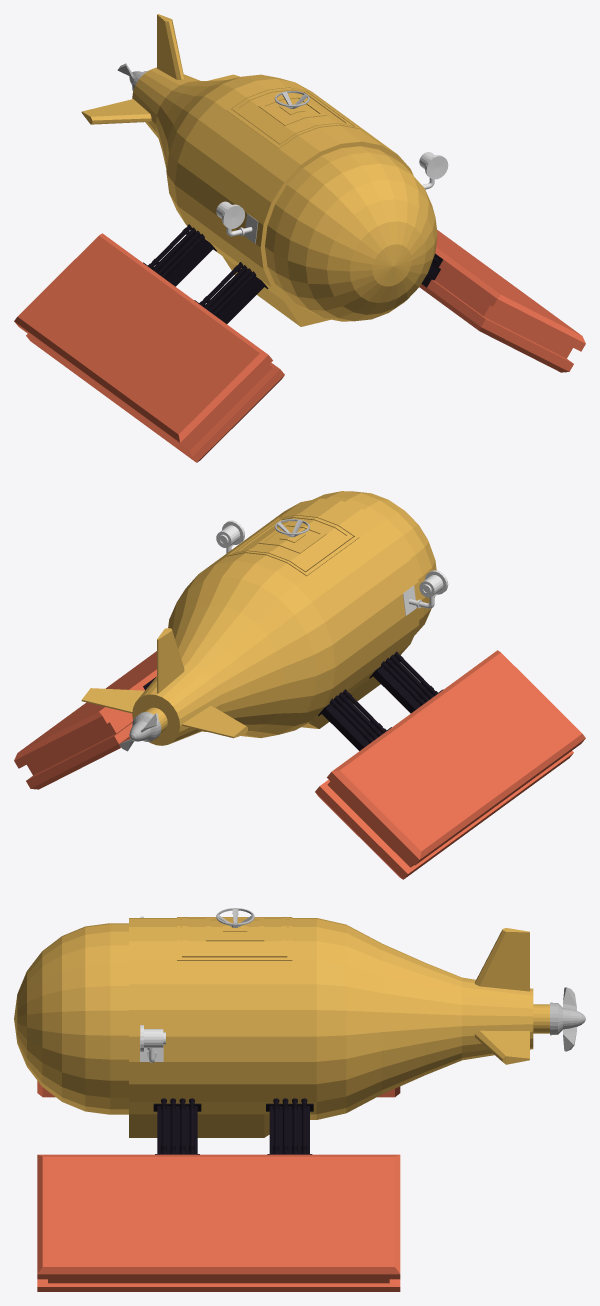
3 views of the same model, one above another, from view 1: azimuth 30°, elevation 25°; view 2: azimuth 150°, elevation 25°; view 3: azimuth 270°, elevation 25° (orthographic). The views are drawn at different scales.
Visible parts, largest first — view 1: body, float, enganche_2, lamp, Helice_y_Escotilla; view 2: body, float, enganche_2, lamp, Helice_y_Escotilla; view 3: body, float, enganche_2, Helice_y_Escotilla, lamp.
Part boxes in pixels (x1=…): body: x1=81, y1=14, x2=437, y2=326; float: x1=14, y1=230, x2=585, y2=462; enganche_2: x1=143, y1=224, x2=443, y2=323; lamp: x1=216, y1=152, x2=448, y2=243; Helice_y_Escotilla: x1=117, y1=63, x2=309, y2=108; body: x1=81, y1=491, x2=436, y2=745; float: x1=14, y1=650, x2=585, y2=879; enganche_2: x1=143, y1=651, x2=443, y2=750; lamp: x1=216, y1=520, x2=448, y2=615; Helice_y_Escotilla: x1=119, y1=519, x2=309, y2=751; body: x1=14, y1=917, x2=549, y2=1137; float: x1=37, y1=1081, x2=400, y2=1291; enganche_2: x1=153, y1=1098, x2=313, y2=1154; Helice_y_Escotilla: x1=216, y1=908, x2=585, y2=1051; lamp: x1=140, y1=916, x2=165, y2=1062.
Size of the model in its own units: 533 by 318 by 595.
